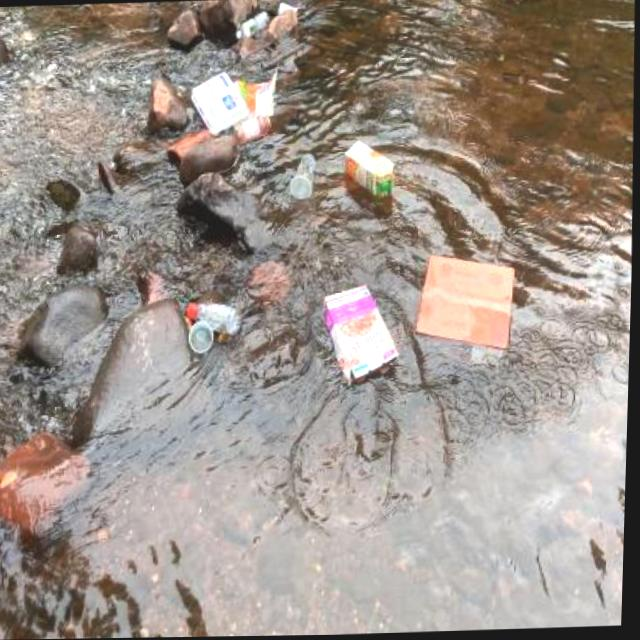Cardboard: (406, 240, 529, 394), (314, 269, 407, 404), (182, 58, 288, 148), (334, 129, 406, 211)
Plastic: (180, 295, 249, 356), (285, 145, 324, 206), (230, 7, 273, 42)
